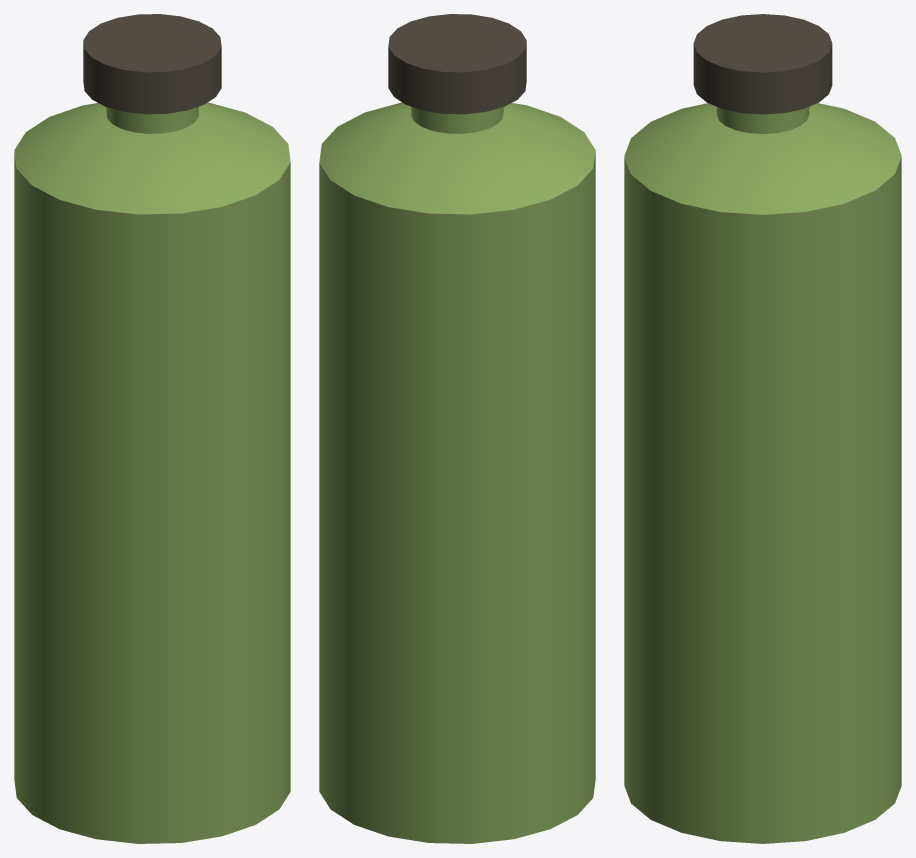
Rendered from potion2.fbx.
3 renders of one model, left to right at view 1: azimuth 30°, elevation 25°; view 2: azimuth 150°, elevation 25°; view 3: azimuth 270°, elevation 25°, orthographic.
Parts seen in each view (by area): view 1: PROPER_POTION; view 2: PROPER_POTION; view 3: PROPER_POTION.
Part boxes in pixels (x1,y1,x2,y2): PROPER_POTION: (14, 14, 290, 843); PROPER_POTION: (319, 14, 595, 843); PROPER_POTION: (624, 14, 901, 843).
Size of the model in its own units: 7.5 by 22.12 by 7.5.
